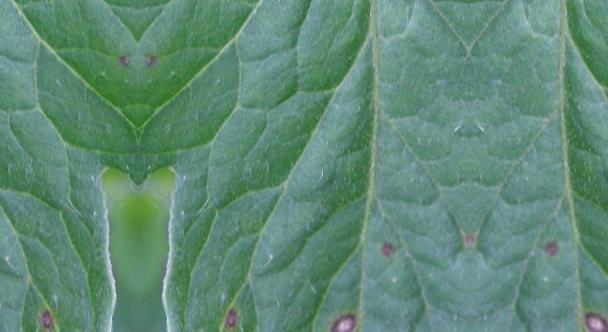Tomato leaf bacterial spot: (136, 0, 472, 332)
